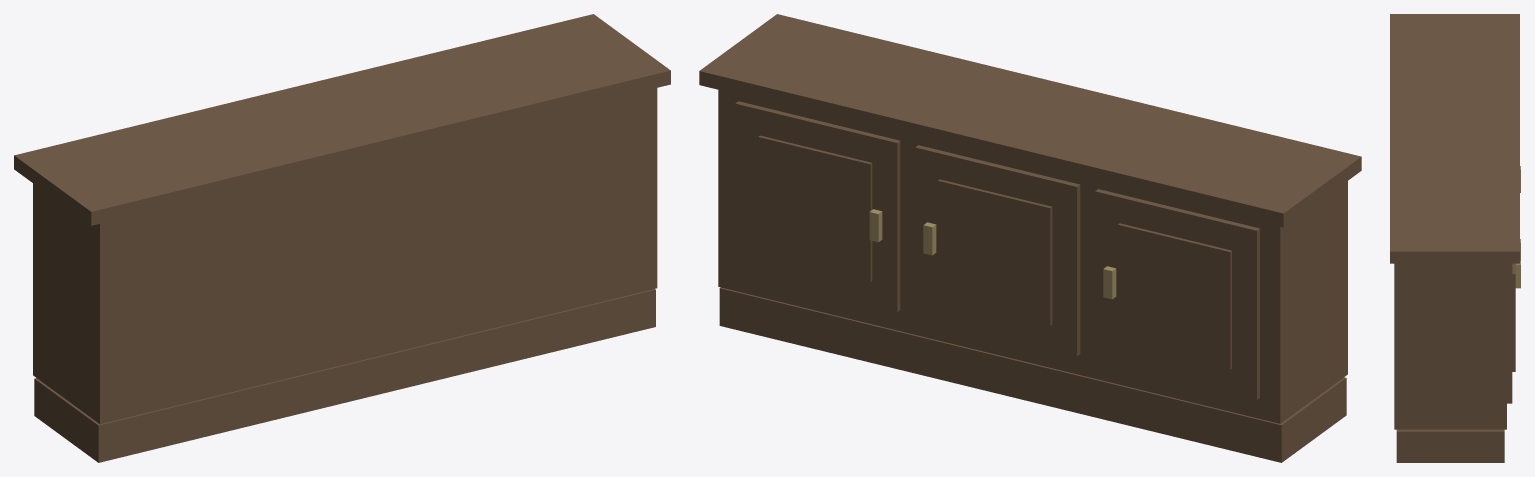
File: Sideboard.fbx
3 renders of one model, left to right at view 1: azimuth 30°, elevation 25°; view 2: azimuth 150°, elevation 25°; view 3: azimuth 270°, elevation 25°, orthographic. The views are drawn at different scales.
Visible parts, largest first — view 1: Sideboard; view 2: Sideboard; view 3: Sideboard.
Part boxes in pixels (x1=…): Sideboard: x1=14, y1=14, x2=670, y2=462; Sideboard: x1=699, y1=14, x2=1361, y2=462; Sideboard: x1=1390, y1=14, x2=1520, y2=462.
Size of the model in its own units: 2.6 by 1.1 by 0.605.
